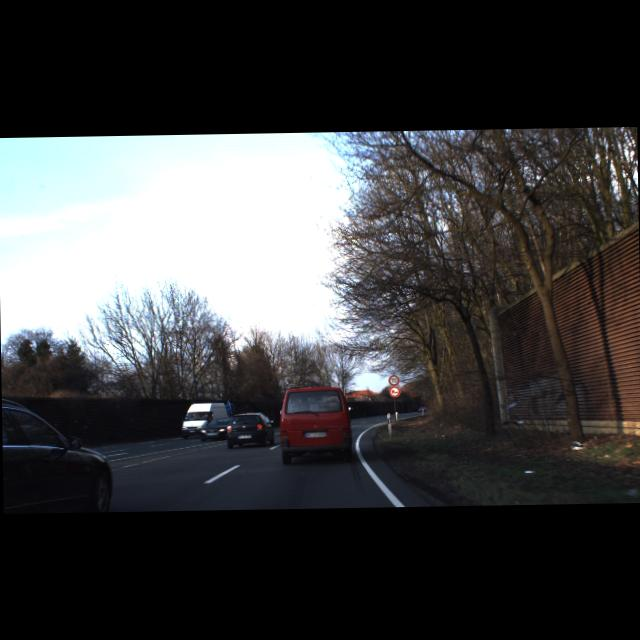prohibitory: (388, 386, 401, 398), (388, 374, 398, 385)
